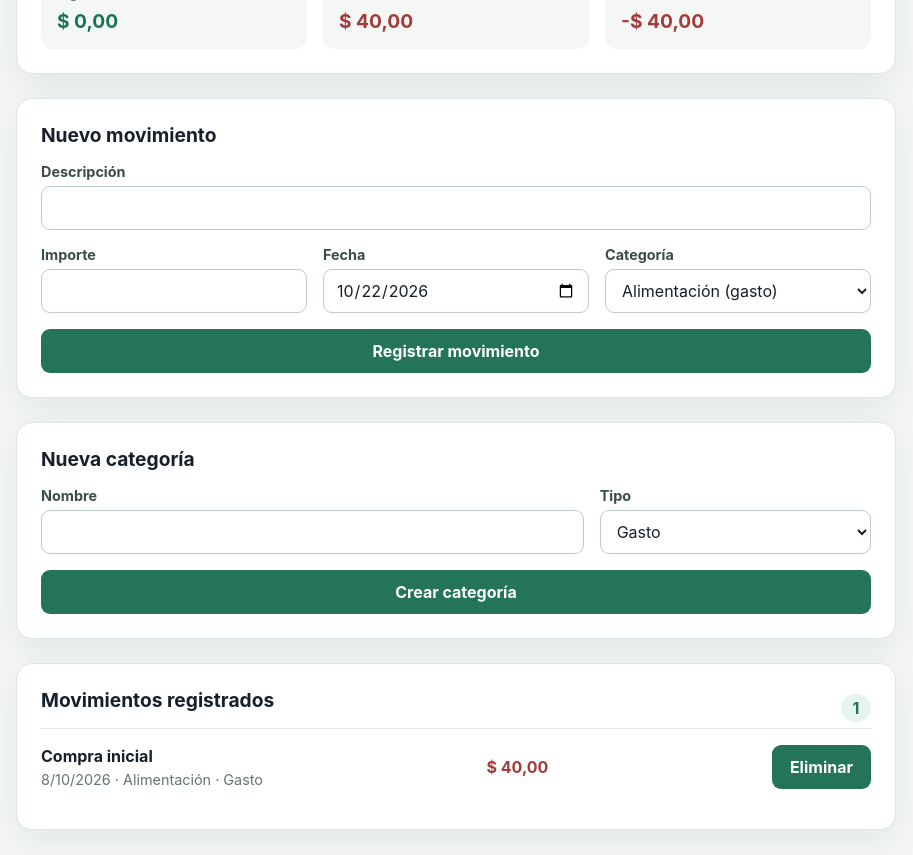
Test: MovementsPage › elimina un movimiento y actualiza el resumen
(page scrolled)
Check: the text "Compra inicial" is shown, box [41,746,153,766]
Step 1. Click the button with aria-label "Eliminar Compra inicial" → (821, 767), box [772,745,871,789]
(page scrolled)
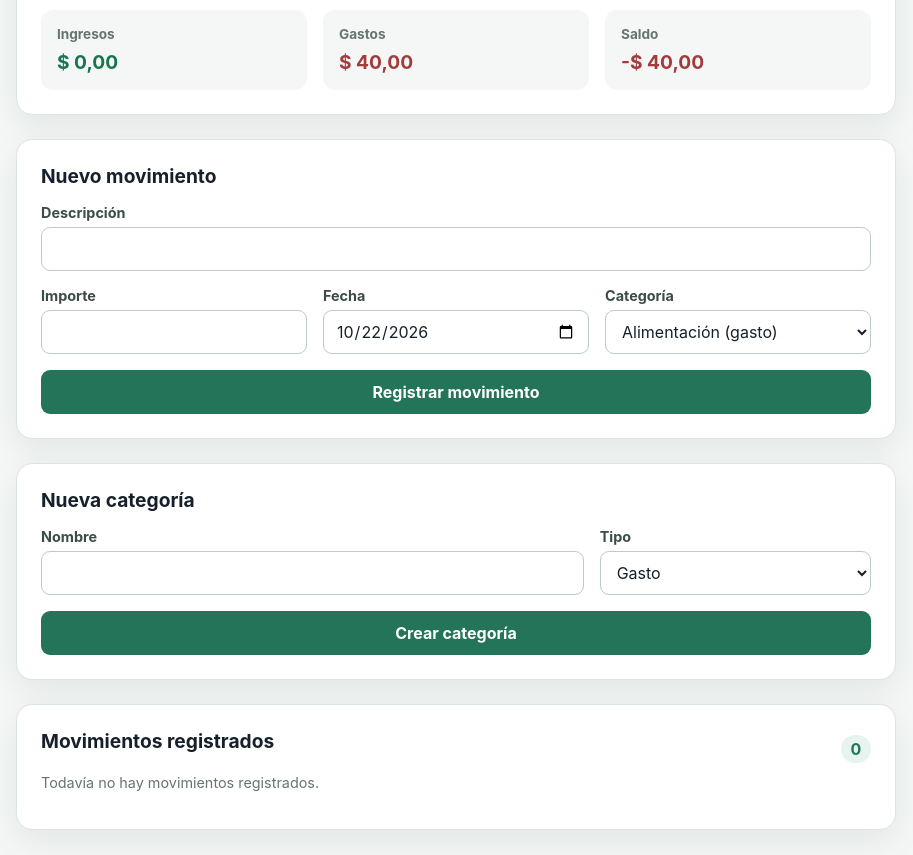
Check: the text "Compra inicial" is gone
